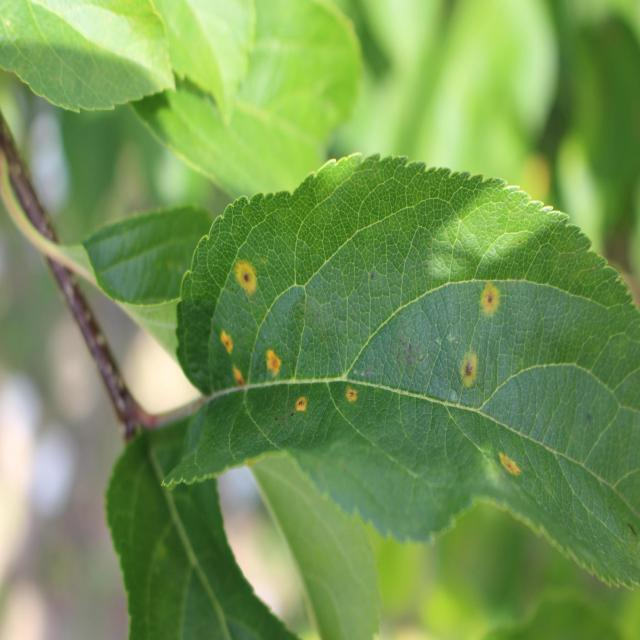Rust: (225, 242, 263, 296), (452, 342, 490, 396), (493, 440, 531, 486), (476, 271, 504, 333), (256, 333, 286, 382), (218, 364, 250, 400), (210, 330, 242, 364), (344, 374, 363, 411), (290, 389, 314, 418)
